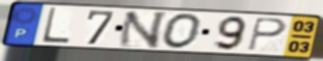7: (84, 9, 115, 46)
9: (212, 15, 249, 52)
L: (39, 6, 71, 45)
N: (116, 11, 171, 50)
O: (161, 12, 205, 51)
P: (246, 16, 289, 52)
